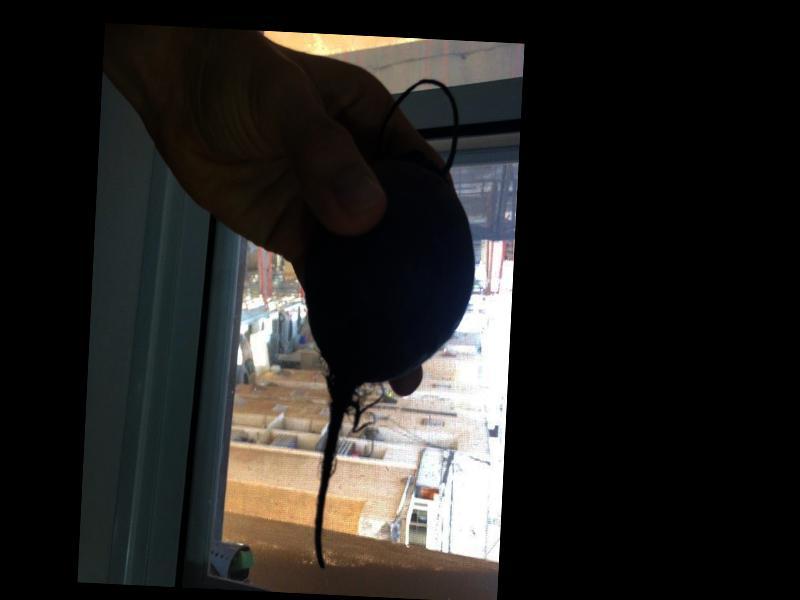Beet: (290, 75, 484, 577)
